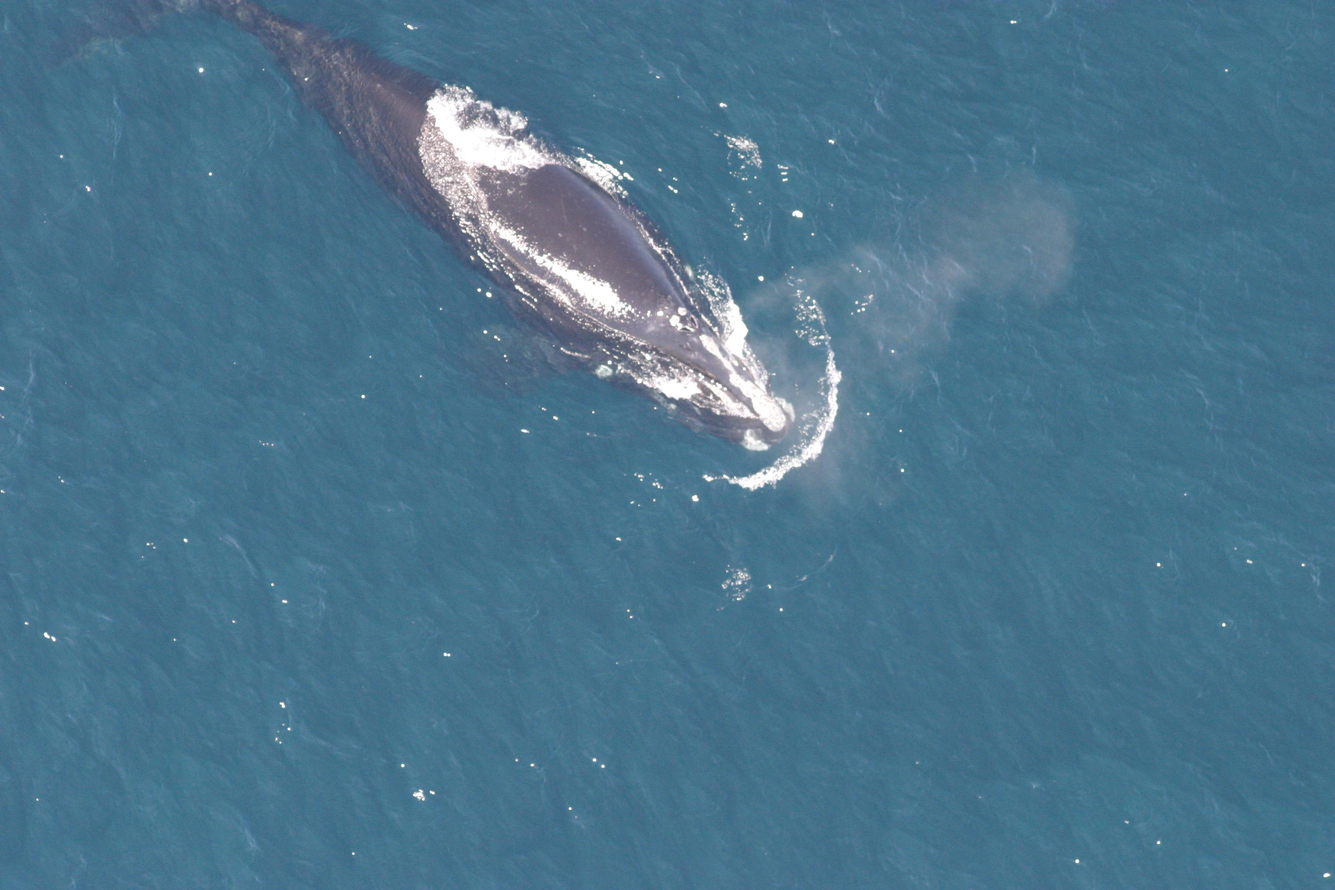whale: (50, 0, 802, 459)
